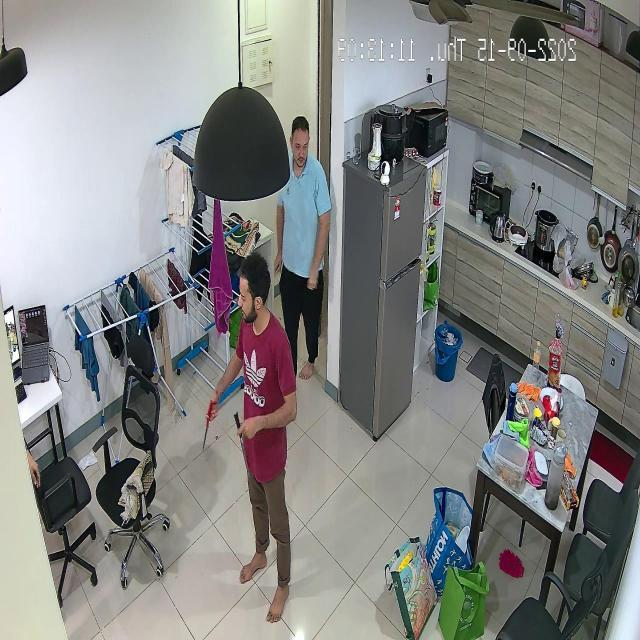Knife: (198, 391, 224, 457)
